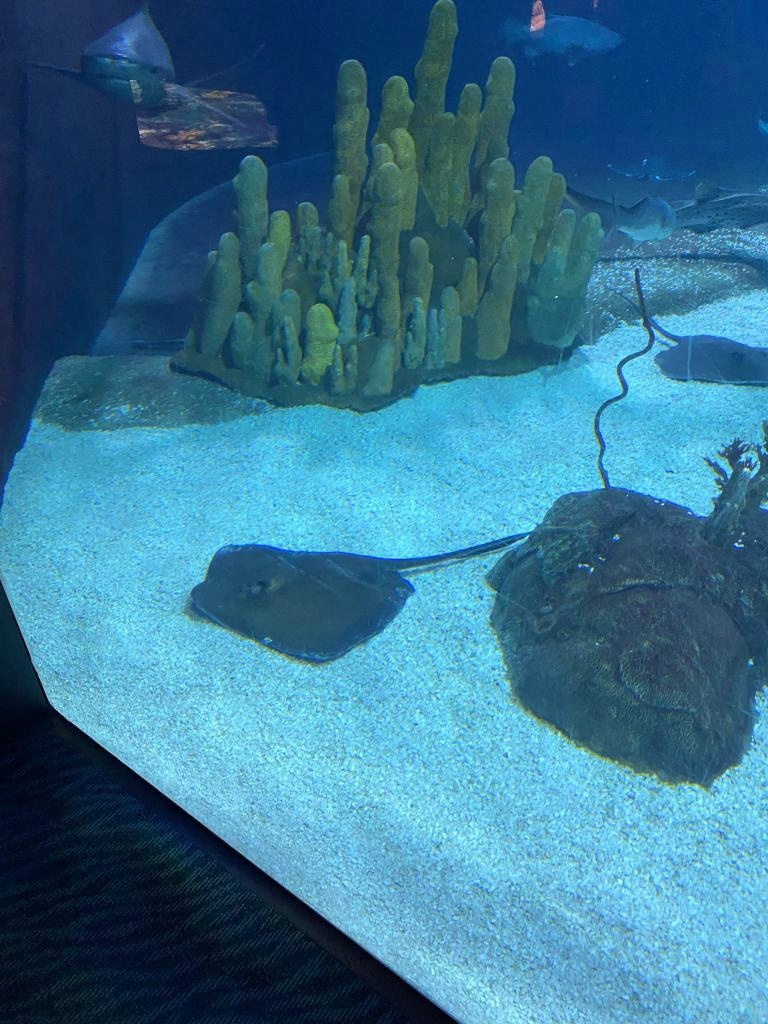fish: (500, 12, 622, 62)
shark: (33, 4, 223, 108)
stingray: (186, 542, 414, 662), (651, 333, 767, 385)
